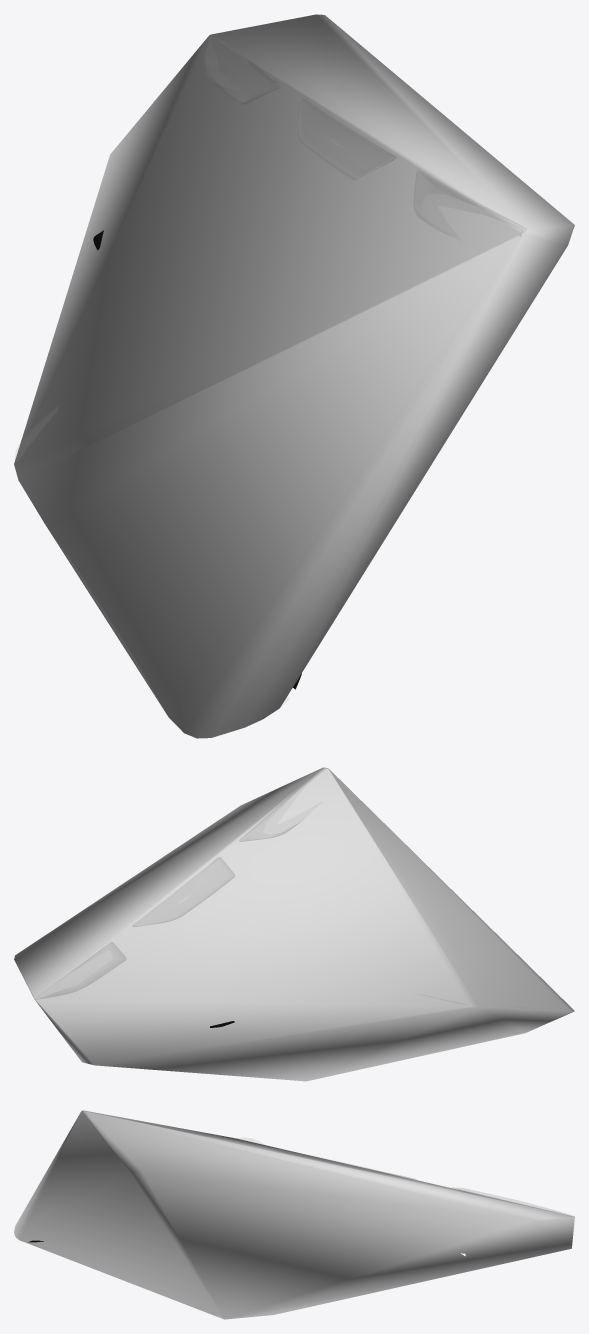
3 views of the same model, one above another, from view 1: azimuth 30°, elevation 25°; view 2: azimuth 150°, elevation 25°; view 3: azimuth 270°, elevation 25° (orthographic). The views are drawn at different scales.
Parts seen in each view (by area): view 1: grille_eclipse_tail_l_1_01_col, grille_eclipse_tail_l_1_01; view 2: grille_eclipse_tail_l_1_01_col, grille_eclipse_tail_l_1_01; view 3: grille_eclipse_tail_l_1_01_col, grille_eclipse_tail_l_1_01.
Boxes of the visible parts, x1,y1,x2,y2 form: grille_eclipse_tail_l_1_01_col: (14, 14, 574, 738); grille_eclipse_tail_l_1_01: (93, 37, 525, 689); grille_eclipse_tail_l_1_01_col: (14, 767, 574, 1081); grille_eclipse_tail_l_1_01: (36, 772, 460, 1081); grille_eclipse_tail_l_1_01_col: (14, 1110, 574, 1319); grille_eclipse_tail_l_1_01: (28, 1111, 573, 1318).
Bounding box in the file's own units: 0.5595 × 0.3819 × 0.8053.
Materials: 5 (5 with a texture image).
